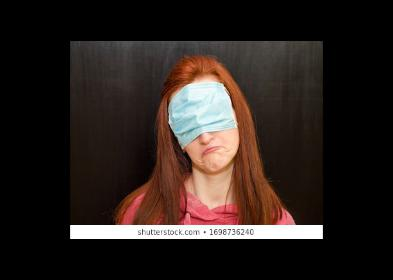mask_weared_incorrect: (175, 93, 235, 175)
